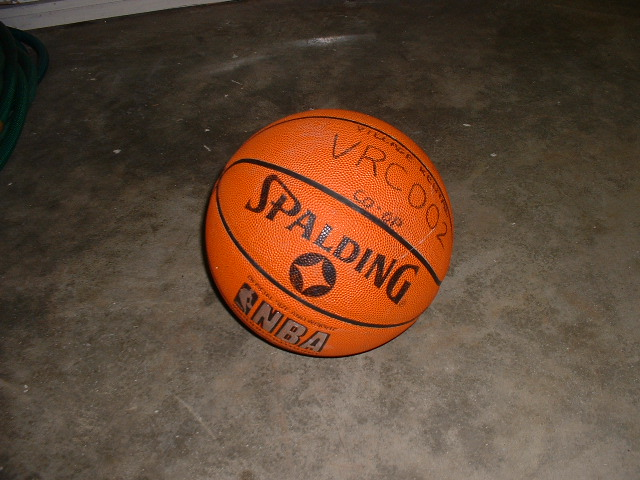basketball: (204, 108, 453, 359)
